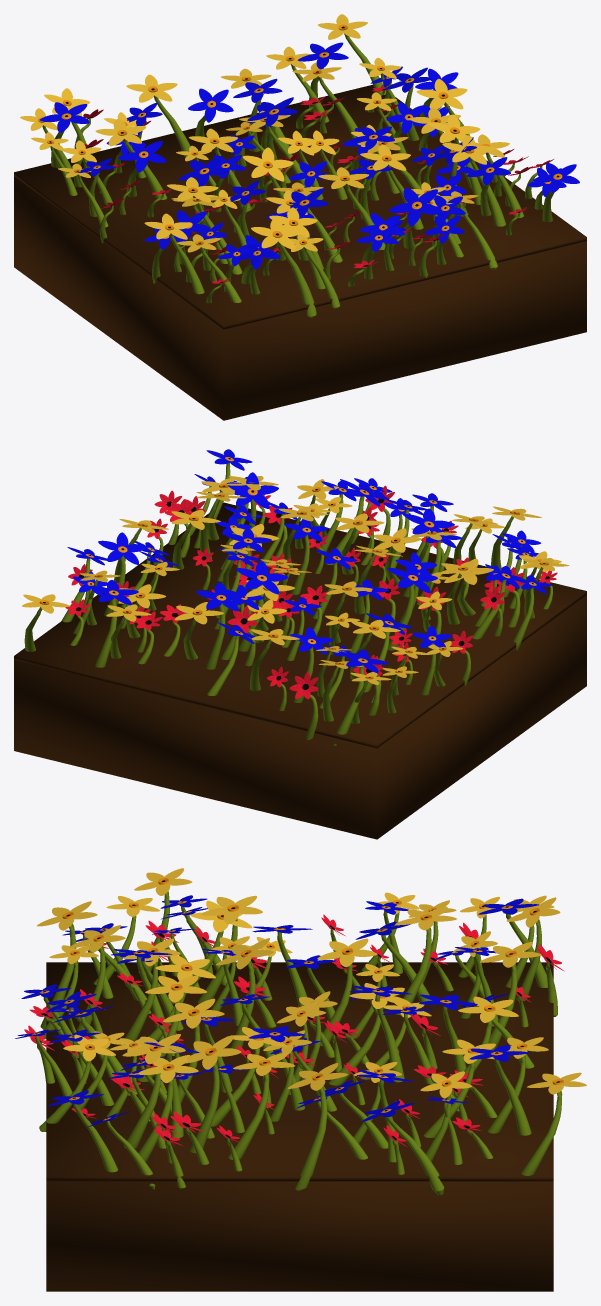
The model's file is flowers1m2.fbx.
The picture shows the model from 3 angles, top to bottom: view 1: azimuth 30°, elevation 25°; view 2: azimuth 150°, elevation 25°; view 3: azimuth 270°, elevation 25°; orthographic projection. The views are drawn at different scales.
Parts seen in each view (by area): view 1: dirtcube, flowerplane, flowerplane|flowerstem|Dupli|33, flowerplane|flowerstem|Dupli|111, flowerplane|flowerstem2|Dupli|79, flowerplane|flowerstem|Dupli|18, flowerplane|flowerstem|Dupli|36, flowerplane|flowerstem|Dupli|48, flowerplane|flowerstem|Dupli|120, flowerplane|flowerstem|Dupli|, flowerplane|flowerstem2|Dupli|46, flowerplane|flowerstem|Dupli|66 (+47 smaller); view 2: dirtcube, flowerplane, flowerplane|flowerstem2|Dupli|25, flowerplane|flowerstem2|Dupli|4, flowerplane|flowerstem2|Dupli|49, flowerplane|flowerstem2|Dupli|100, flowerplane|flowerstem2|Dupli|124, flowerplane|flowerstem2|Dupli|13, flowerplane|flowerstem2|Dupli|118, flowerplane|flowerstem2|Dupli|91, flowerplane|flowerstem|Dupli|24, flowerplane|flowerstem|Dupli|114 (+40 smaller); view 3: flowerplane, dirtcube, flowerplane|flowerstem|Dupli|129, flowerplane|flowerstem|Dupli|120, flowerplane|flowerstem|Dupli|111, flowerplane|flowerstem|Dupli|114, flowerplane|flowerstem|Dupli|, flowerplane|flowerstem|Dupli|72, flowerplane|flowerstem|Dupli|108, flowerplane|flowerstem|Dupli|39, flowerplane|flowerstem|Dupli|48, flowerplane|flowerstem|Dupli|33 (+57 smaller).
Part boxes in pixels (x1=…): dirtcube: x1=14, y1=176, x2=586, y2=420; flowerplane: x1=14, y1=84, x2=586, y2=329; flowerplane|flowerstem|Dupli|33: x1=251, y1=217, x2=316, y2=317; flowerplane|flowerstem|Dupli|111: x1=442, y1=135, x2=505, y2=226; flowerplane|flowerstem2|Dupli|79: x1=389, y1=188, x2=441, y2=248; flowerplane|flowerstem|Dupli|18: x1=126, y1=74, x2=190, y2=157; flowerplane|flowerstem|Dupli|36: x1=144, y1=213, x2=204, y2=294; flowerplane|flowerstem|Dupli|48: x1=95, y1=119, x2=167, y2=199; flowerplane|flowerstem|Dupli|120: x1=428, y1=114, x2=481, y2=204; flowerplane|flowerstem|Dupli|: x1=318, y1=14, x2=386, y2=94; flowerplane|flowerstem2|Dupli|46: x1=118, y1=141, x2=166, y2=197; flowerplane|flowerstem|Dupli|66: x1=243, y1=147, x2=293, y2=198; dirtcube: x1=14, y1=595, x2=586, y2=839; flowerplane: x1=14, y1=502, x2=586, y2=748; flowerplane|flowerstem2|Dupli|25: x1=196, y1=582, x2=245, y2=669; flowerplane|flowerstem2|Dupli|4: x1=88, y1=580, x2=138, y2=667; flowerplane|flowerstem2|Dupli|49: x1=387, y1=562, x2=437, y2=650; flowerplane|flowerstem2|Dupli|100: x1=236, y1=561, x2=288, y2=651; flowerplane|flowerstem2|Dupli|124: x1=98, y1=532, x2=147, y2=616; flowerplane|flowerstem2|Dupli|13: x1=333, y1=649, x2=388, y2=746; flowerplane|flowerstem2|Dupli|118: x1=226, y1=472, x2=278, y2=554; flowerplane|flowerstem2|Dupli|91: x1=284, y1=519, x2=328, y2=594; flowerplane|flowerstem|Dupli|24: x1=174, y1=602, x2=223, y2=659; flowerplane|flowerstem|Dupli|114: x1=171, y1=510, x2=220, y2=569; flowerplane: x1=46, y1=962, x2=553, y2=1181; dirtcube: x1=46, y1=1181, x2=553, y2=1291; flowerplane|flowerstem|Dupli|129: x1=287, y1=1063, x2=348, y2=1190; flowerplane|flowerstem|Dupli|120: x1=185, y1=1035, x2=241, y2=1153; flowerplane|flowerstem|Dupli|111: x1=122, y1=1034, x2=185, y2=1148; flowerplane|flowerstem|Dupli|114: x1=228, y1=1052, x2=294, y2=1159; flowerplane|flowerstem|Dupli|: x1=521, y1=1072, x2=586, y2=1175; flowerplane|flowerstem|Dupli|72: x1=317, y1=938, x2=377, y2=1045; flowerplane|flowerstem|Dupli|108: x1=134, y1=1055, x2=198, y2=1161; flowerplane|flowerstem|Dupli|39: x1=197, y1=895, x2=262, y2=1003; flowerplane|flowerstem|Dupli|48: x1=395, y1=906, x2=456, y2=1015; flowerplane|flowerstem|Dupli|33: x1=37, y1=901, x2=97, y2=1029.
Size of the model in its own units: 111 by 45.35 by 113.
